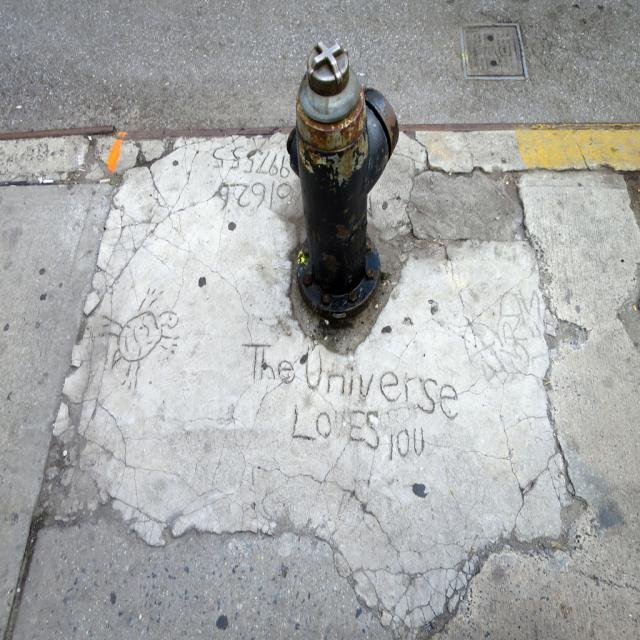fire_hydrant: (288, 41, 401, 319)
